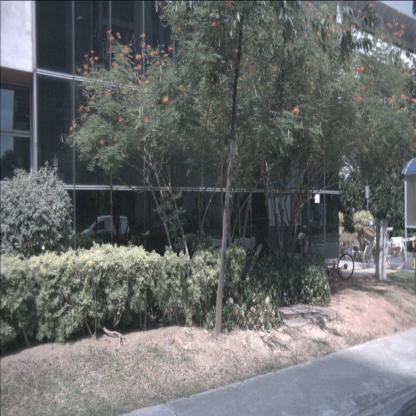vehicle-bicycle: (361, 218, 397, 269), (310, 249, 354, 282), (298, 216, 318, 260)
